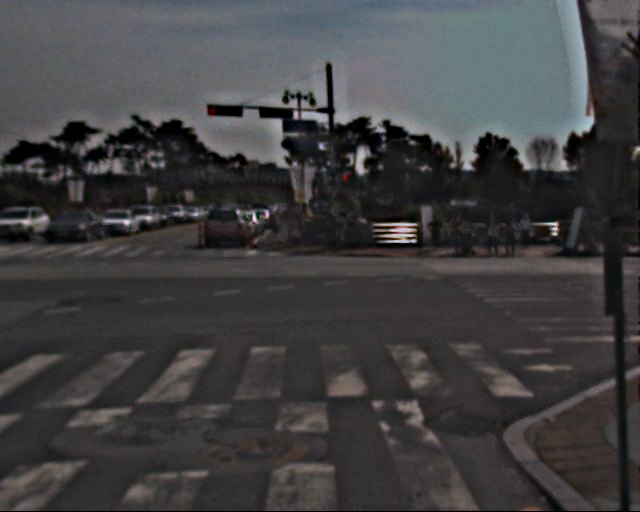person: (267, 202, 311, 242), (324, 204, 343, 251), (483, 213, 501, 258), (503, 215, 521, 258), (451, 208, 469, 251), (430, 213, 446, 253), (519, 210, 535, 249)
